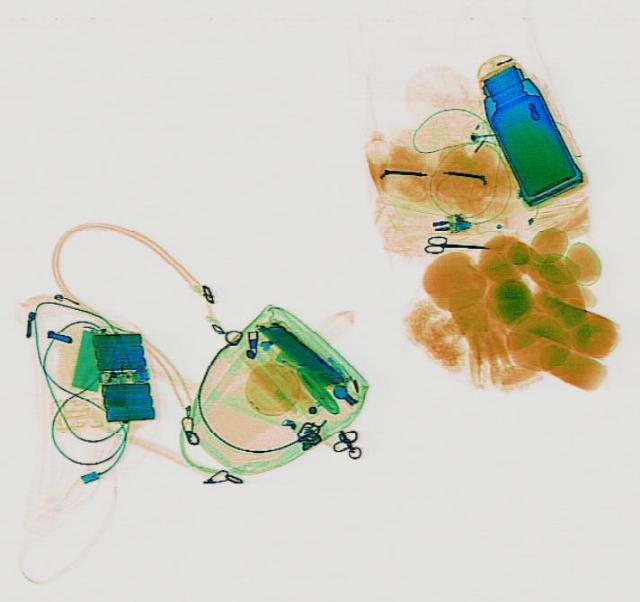Scissors: (423, 234, 489, 253)
